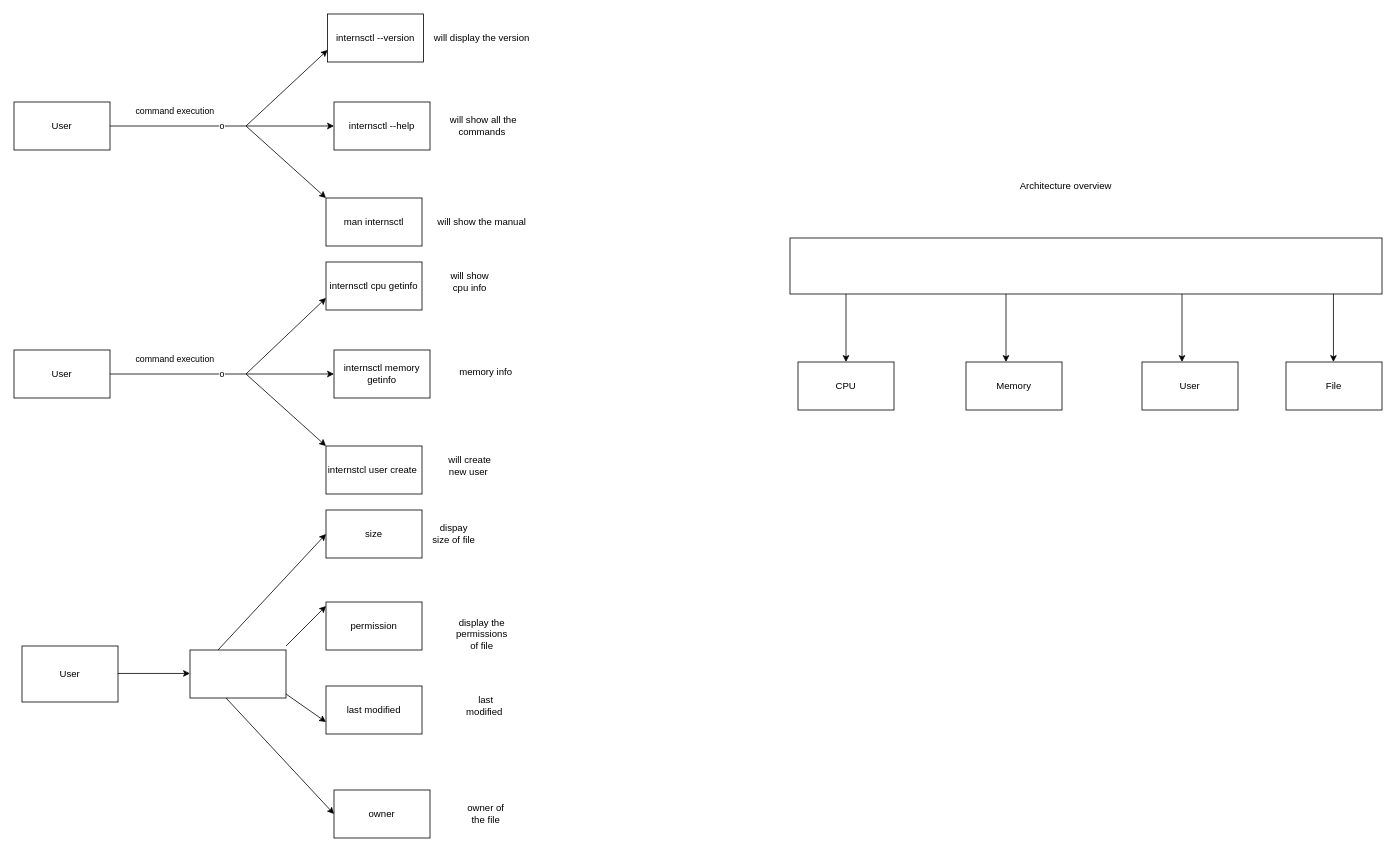
Image size: 1396x852. Some labels were removed from this diagram. The box of each missing label's shape, as (x1, y1, x2, y2) in pixels:
file getinfo: (189, 649, 286, 698)
Internstcl: (789, 237, 1382, 294)
